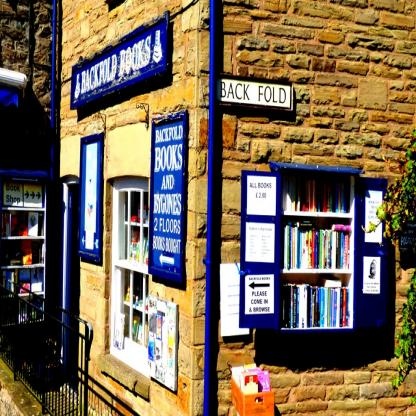book: (280, 274, 350, 328), (286, 221, 354, 270), (282, 183, 350, 211), (232, 363, 273, 398), (1, 212, 44, 240), (1, 269, 43, 292), (2, 244, 44, 265), (19, 297, 43, 322), (296, 227, 298, 267)
